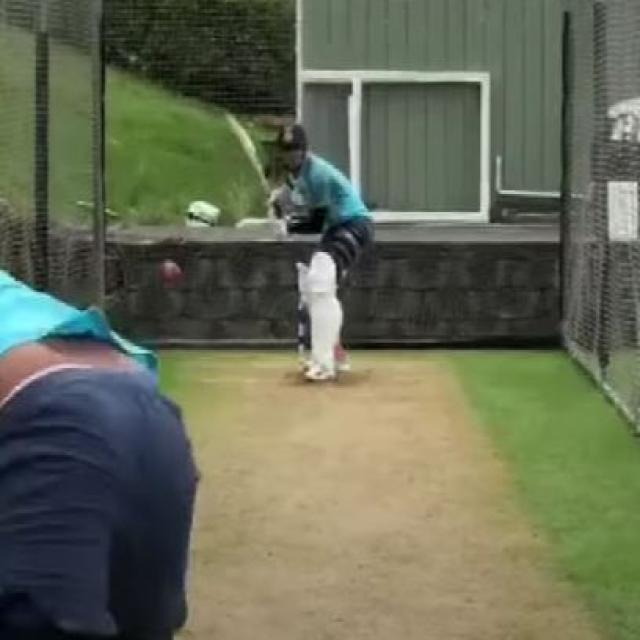ball: (154, 258, 186, 296)
